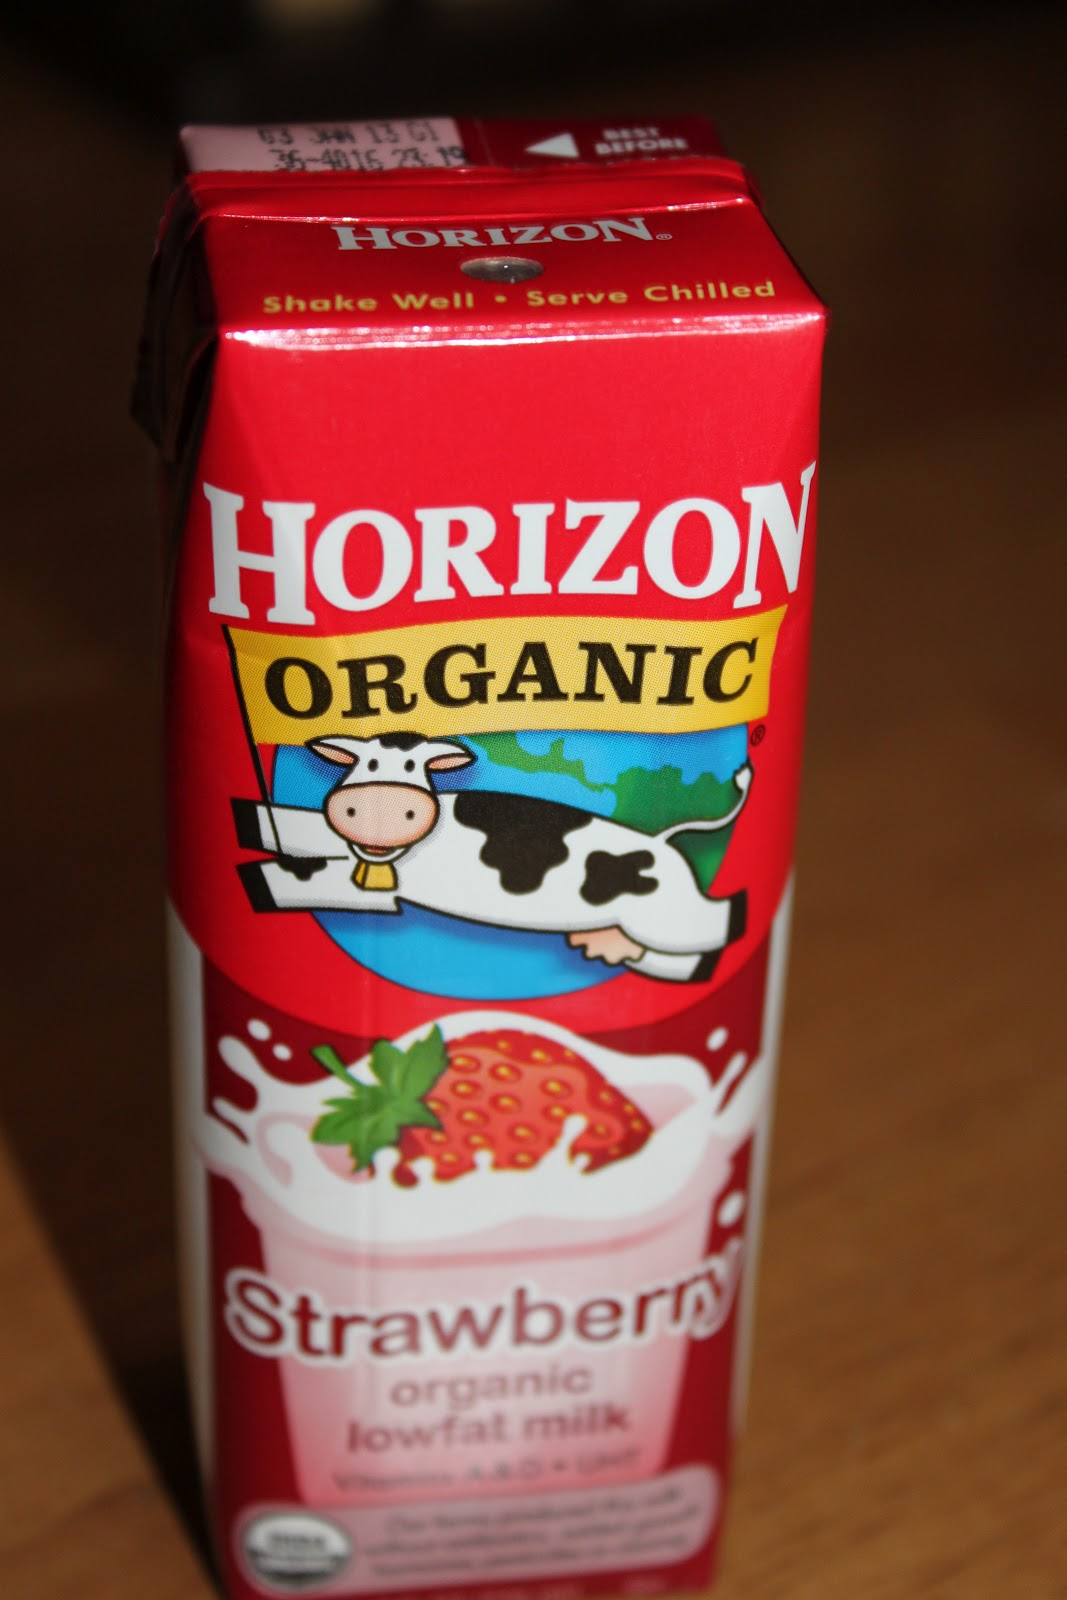Juice_Box: (181, 131, 826, 1598)
